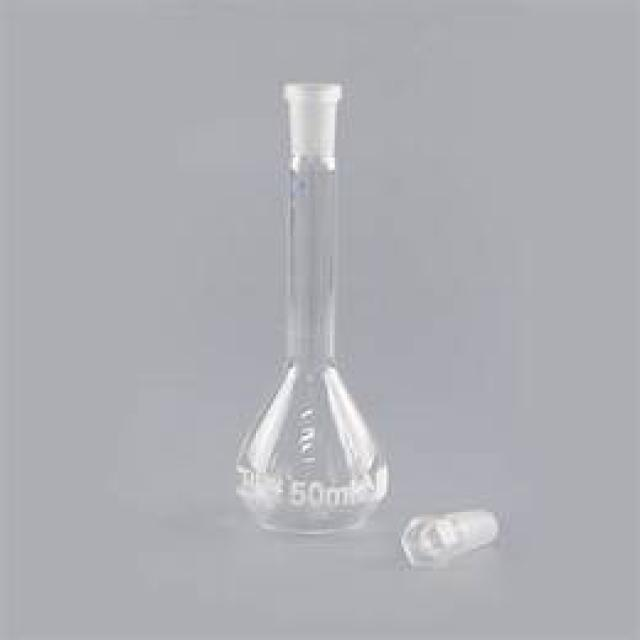Volumetric flask: (239, 68, 391, 532)
